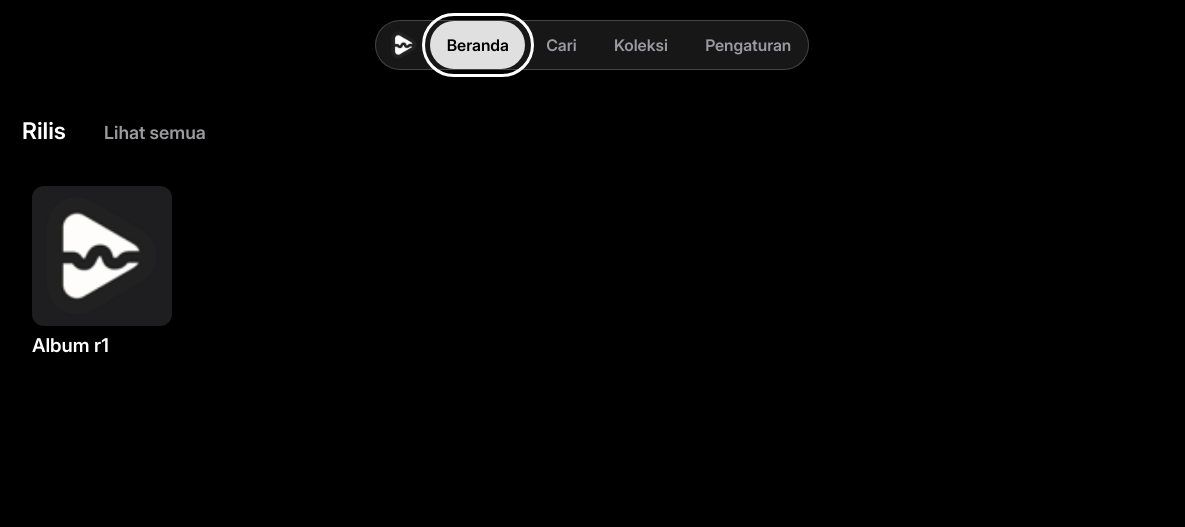
Test: Home: with a library › "Lihat semua" opens the full shelf and loads the next page
Click the button "Lihat semua" at (155, 132), box [86,108,224,156]
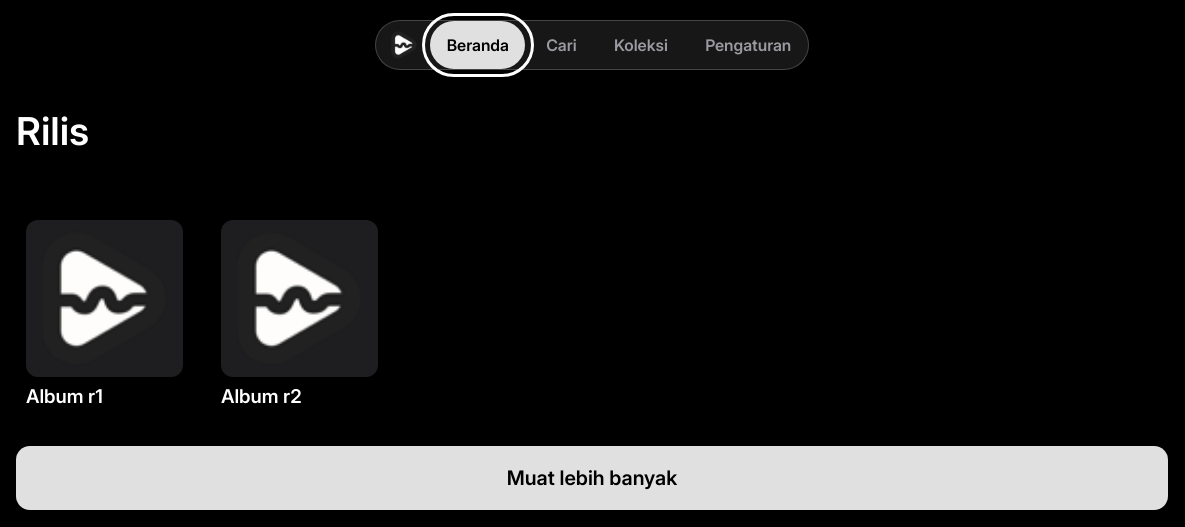
Expected: the heading "Rilis" is shown, [16,108,89,154]
Now the number of buttons with class "home-card" is 2, box [16,210,193,418]; [211,210,388,418]
Click the button "Muat lebih banyak" at (592, 478), box [16,446,1168,510]
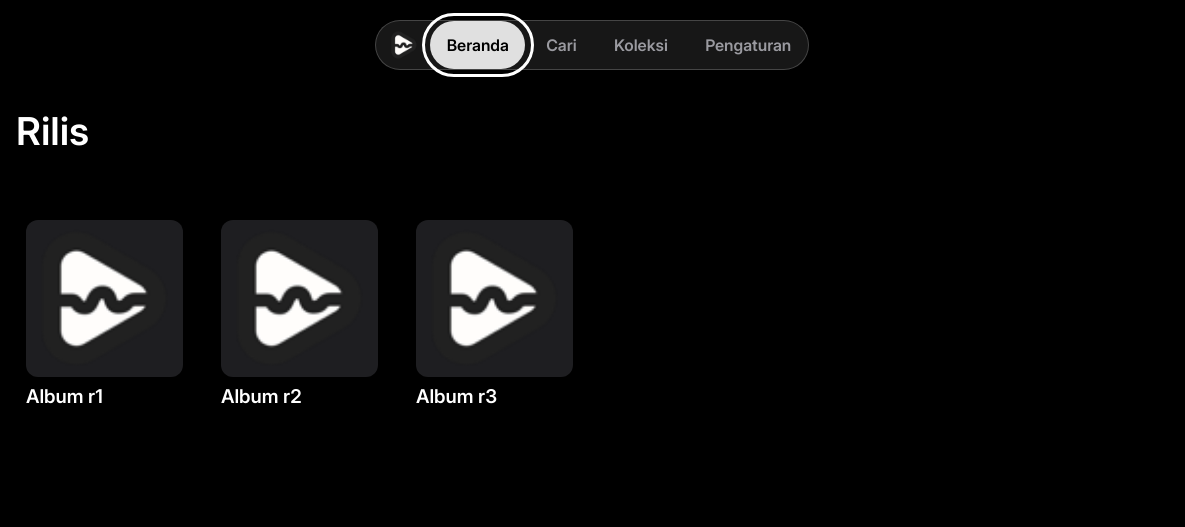
Now the number of buttons with class "home-card" is 3, box [16,210,193,418]; [211,210,388,418]; [406,210,583,418]
